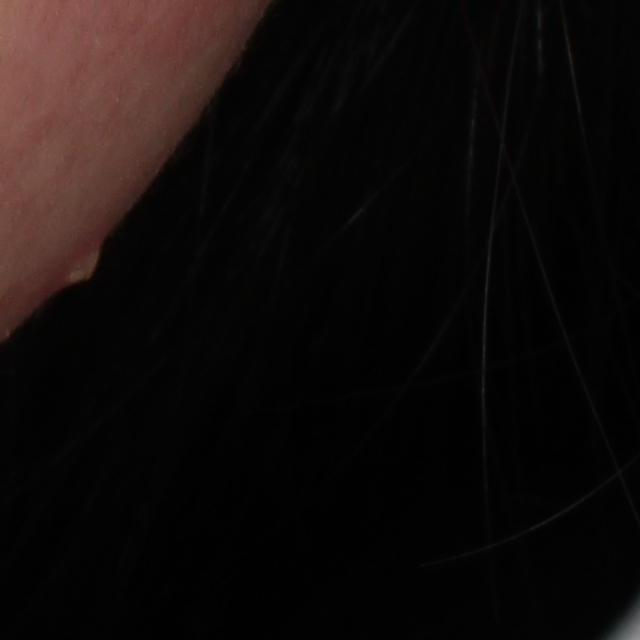pustule: (64, 240, 104, 289)
